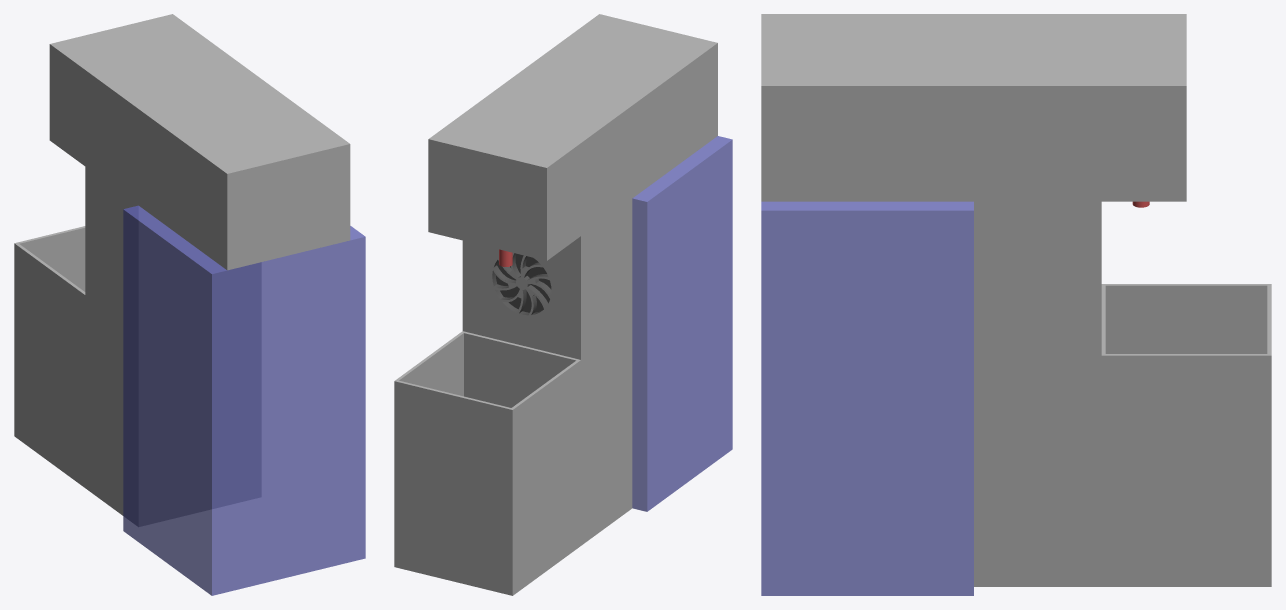
File: draft1.glb
The picture shows the model from 3 angles, left to right: view 1: azimuth 30°, elevation 25°; view 2: azimuth 150°, elevation 25°; view 3: azimuth 270°, elevation 25°; orthographic projection. The views are drawn at different scales.
Parts seen in each view (by area): view 1: draft1.SLDPRT; view 2: draft1.SLDPRT; view 3: draft1.SLDPRT.
Boxes of the visible parts, box(x1,y1,x2,y2) form: draft1.SLDPRT: box(14, 14, 365, 595); draft1.SLDPRT: box(394, 14, 732, 595); draft1.SLDPRT: box(761, 14, 1271, 595).
Size of the model in its own units: 0.05 by 0.13 by 0.12.
